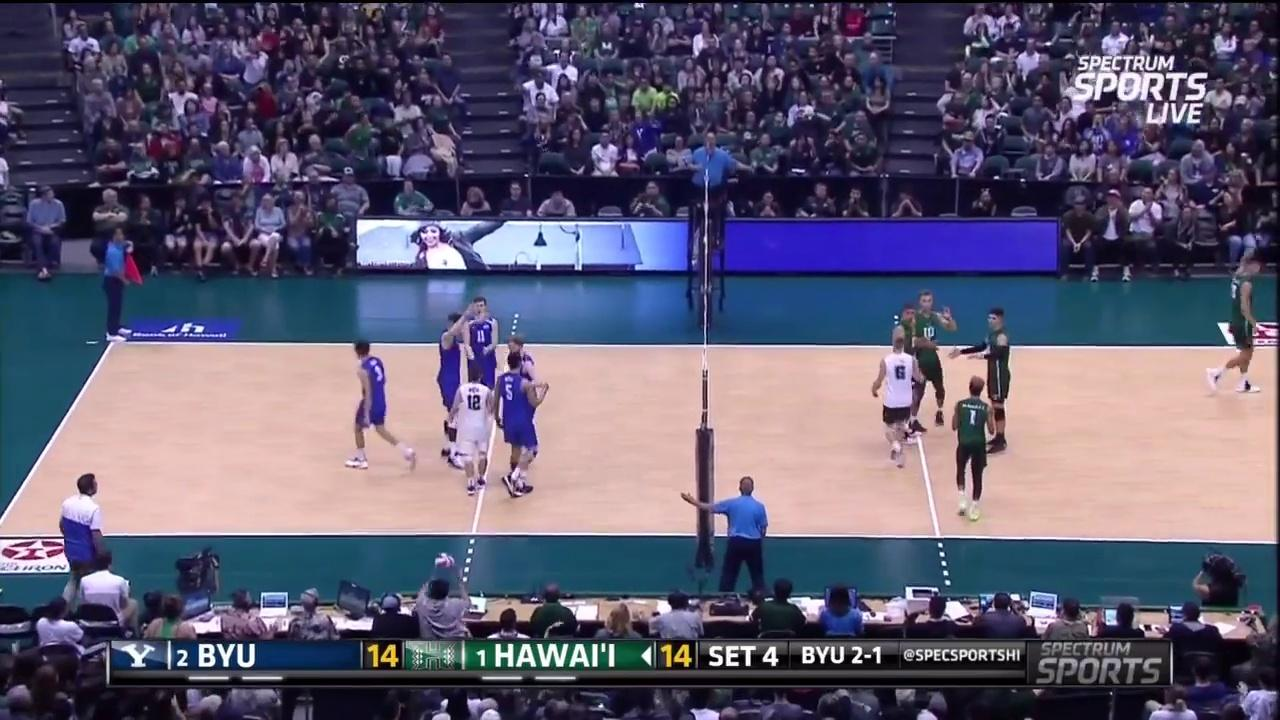player: (1207, 253, 1269, 395), (346, 341, 413, 470), (904, 286, 954, 433), (966, 307, 1014, 455), (498, 351, 541, 499), (431, 309, 472, 459), (499, 330, 541, 475), (876, 335, 921, 469), (462, 293, 503, 435), (886, 296, 926, 441), (954, 377, 993, 521), (452, 366, 496, 491)
refree: (689, 475, 768, 591), (686, 128, 736, 233), (99, 224, 143, 340)
